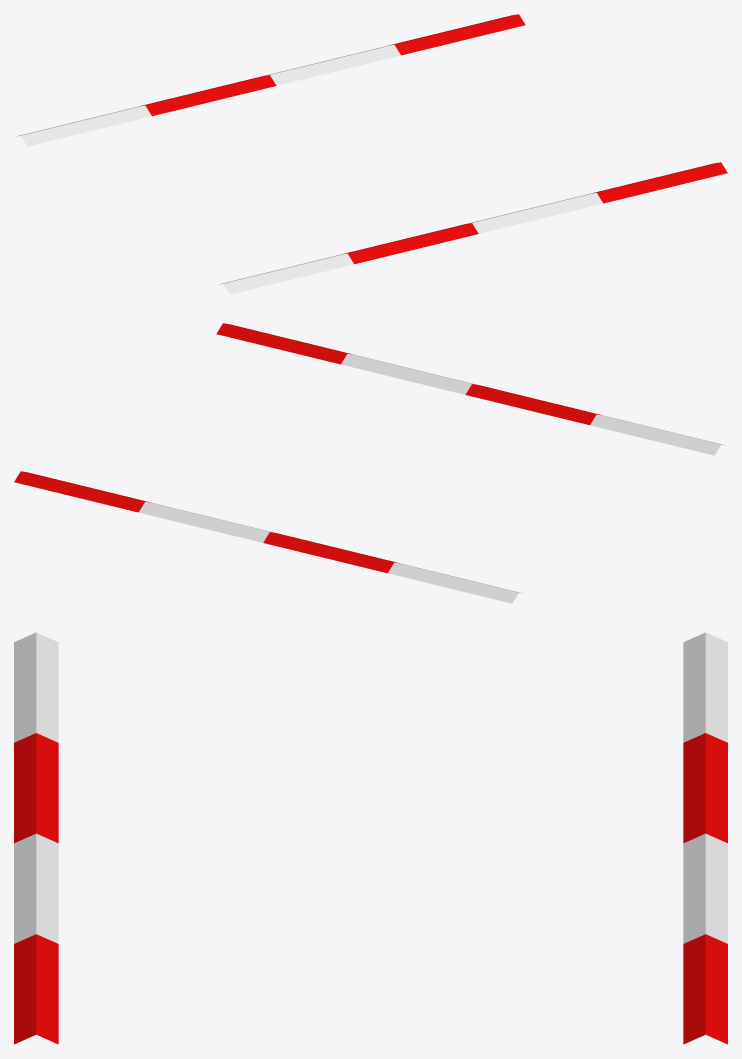
The model's file is Road_straight.fbx.
3 views of the same model, one above another, from view 1: azimuth 30°, elevation 25°; view 2: azimuth 150°, elevation 25°; view 3: azimuth 270°, elevation 25° (orthographic). The views are drawn at different scales.
Visible parts, largest first — view 1: Road_straight; view 2: Road_straight; view 3: Road_straight.
Boxes of the visible parts, x1,y1,x2,y2 form: Road_straight: (15, 14, 727, 294); Road_straight: (14, 323, 726, 603); Road_straight: (14, 632, 727, 1044).
Size of the model in its own units: 3.77 by 0.0432 by 2.83.
